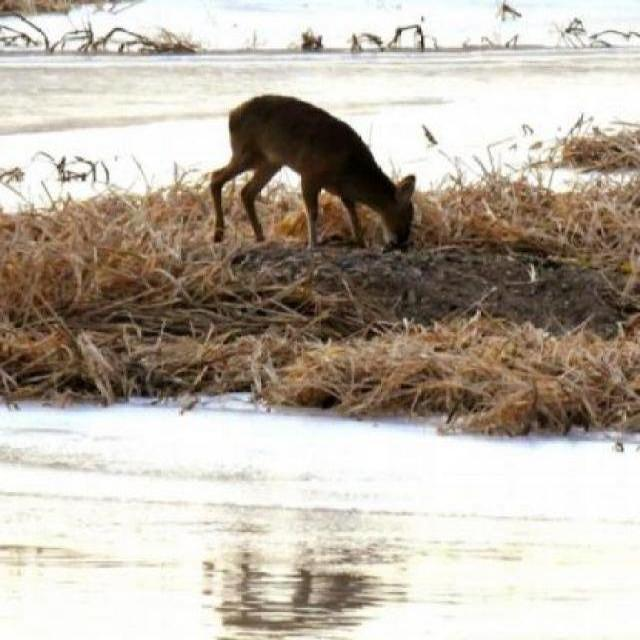deer: (211, 88, 424, 268)
